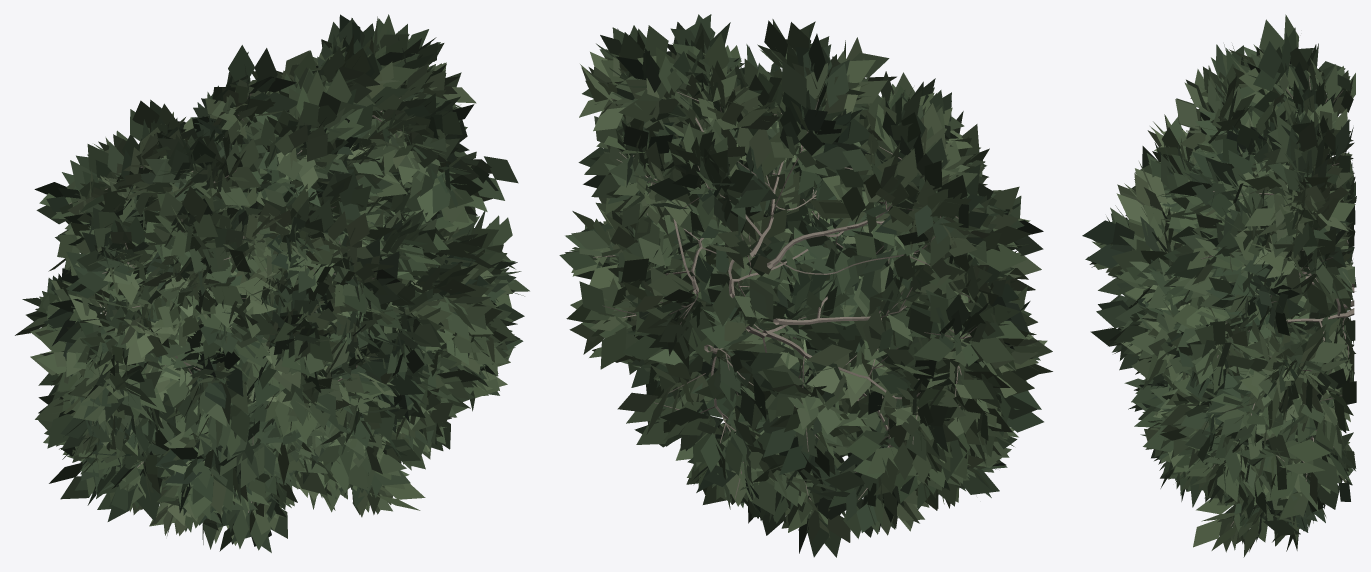
File: tree_shrub_near_01.obj
3 views of the same model, side by side, from view 1: azimuth 30°, elevation 25°; view 2: azimuth 150°, elevation 25°; view 3: azimuth 270°, elevation 25° (orthographic). The views are drawn at different scales.
Parts seen in each view (by area): view 1: tree_shrub_near_01; view 2: tree_shrub_near_01; view 3: tree_shrub_near_01.
Part boxes in pixels (x1=…): tree_shrub_near_01: x1=15, y1=14, x2=529, y2=552; tree_shrub_near_01: x1=559, y1=14, x2=1052, y2=557; tree_shrub_near_01: x1=1082, y1=14, x2=1356, y2=557.
Bounding box in the file's own units: 1.97 × 2.01 × 1.01.
Materials: 1 (1 with a texture image).
